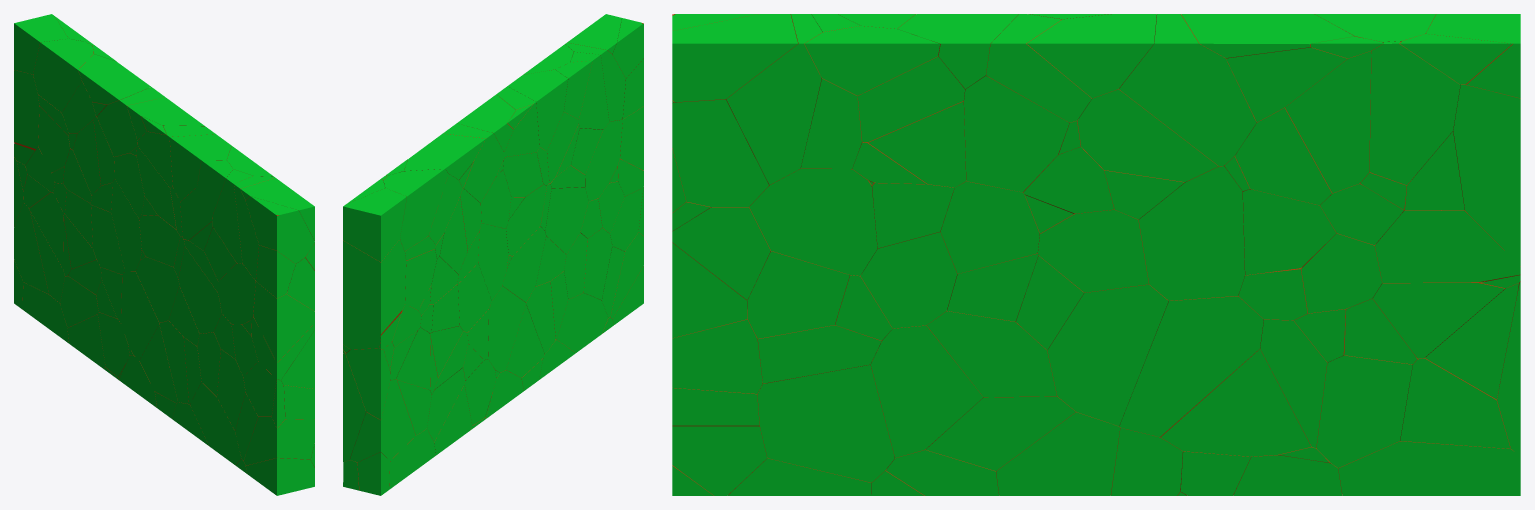
Rendered from WallNew.fbx.
3 views of the same model, side by side, from view 1: azimuth 30°, elevation 25°; view 2: azimuth 150°, elevation 25°; view 3: azimuth 270°, elevation 25° (orthographic). The views are drawn at different scales.
Parts seen in each view (by area): view 1: Cube_cell.126, Cube_cell.018, Cube_cell.110, Cube_cell.001, Cube_cell.066, Cube_cell.133, Cube_cell.071, Cube_cell.017, Cube_cell.120, Cube_cell.119, Cube_cell.054, Cube_cell.075 (+59 smaller); view 2: Cube_cell.067, Cube_cell.075, Cube_cell.126, Cube_cell.031, Cube_cell.066, Cube_cell.133, Cube_cell.071, Cube_cell.041, Cube_cell.017, Cube_cell.120, Cube_cell.054, Cube_cell.007 (+58 smaller); view 3: Cube_cell.112, Cube_cell.094, Cube_cell.064, Cube_cell.012, Cube_cell.054, Cube_cell.125, Cube_cell.029, Cube_cell.102, Cube_cell.067, Cube_cell.135, Cube_cell.007, Cube_cell.129 (+59 smaller).
Boxes of the visible parts, x1,y1,x2,y2 form: Cube_cell.126: (33, 38, 93, 112); Cube_cell.018: (253, 281, 314, 362); Cube_cell.110: (246, 196, 314, 263); Cube_cell.001: (243, 416, 314, 465); Cube_cell.066: (169, 134, 231, 201); Cube_cell.133: (78, 54, 150, 104); Cube_cell.071: (121, 271, 159, 360); Cube_cell.017: (178, 246, 221, 333); Cube_cell.120: (190, 382, 241, 464); Cube_cell.119: (246, 458, 314, 495); Cube_cell.054: (96, 87, 164, 156); Cube_cell.075: (14, 14, 68, 74); Cube_cell.067: (343, 239, 406, 349); Cube_cell.075: (343, 188, 406, 261); Cube_cell.126: (383, 169, 448, 251); Cube_cell.031: (349, 379, 415, 462); Cube_cell.066: (507, 69, 567, 150); Cube_cell.133: (404, 133, 485, 179); Cube_cell.071: (488, 286, 526, 372); Cube_cell.041: (345, 348, 390, 419); Cube_cell.017: (545, 187, 588, 254); Cube_cell.120: (555, 293, 608, 352); Cube_cell.054: (443, 123, 504, 203); Cube_cell.007: (343, 429, 435, 490); Cube_cell.112: (757, 365, 894, 482); Cube_cell.094: (1119, 296, 1263, 436); Cube_cell.064: (1138, 166, 1244, 300); Cube_cell.012: (1047, 284, 1168, 426); Cube_cell.054: (1119, 14, 1256, 165); Cube_cell.125: (749, 168, 877, 275); Cube_cell.029: (1369, 41, 1460, 185); Cube_cell.102: (870, 325, 983, 457); Cube_cell.067: (1450, 84, 1520, 266); Cube_cell.135: (1160, 349, 1311, 456); Cube_cell.007: (1338, 441, 1520, 495); Cube_cell.129: (724, 14, 822, 185).
Bounding box in the file's own units: 50 × 354 × 602.
